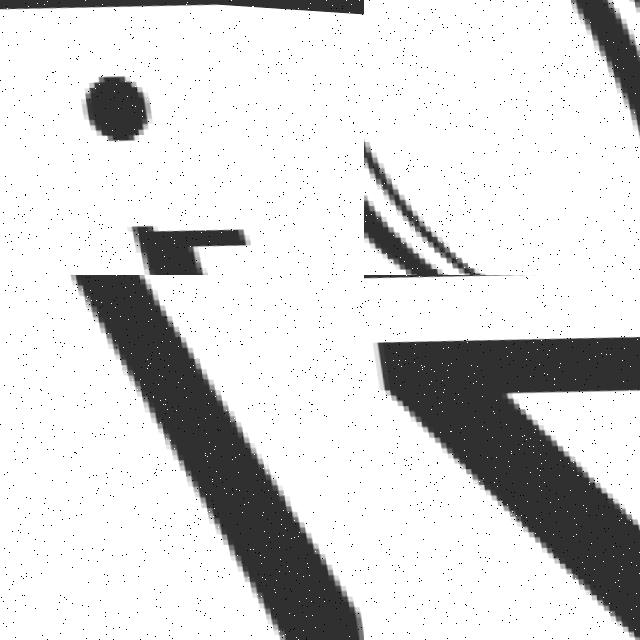0: (364, 0, 640, 275)
7: (0, 275, 364, 640)
J: (76, 49, 364, 275)
Z: (364, 285, 640, 640)
